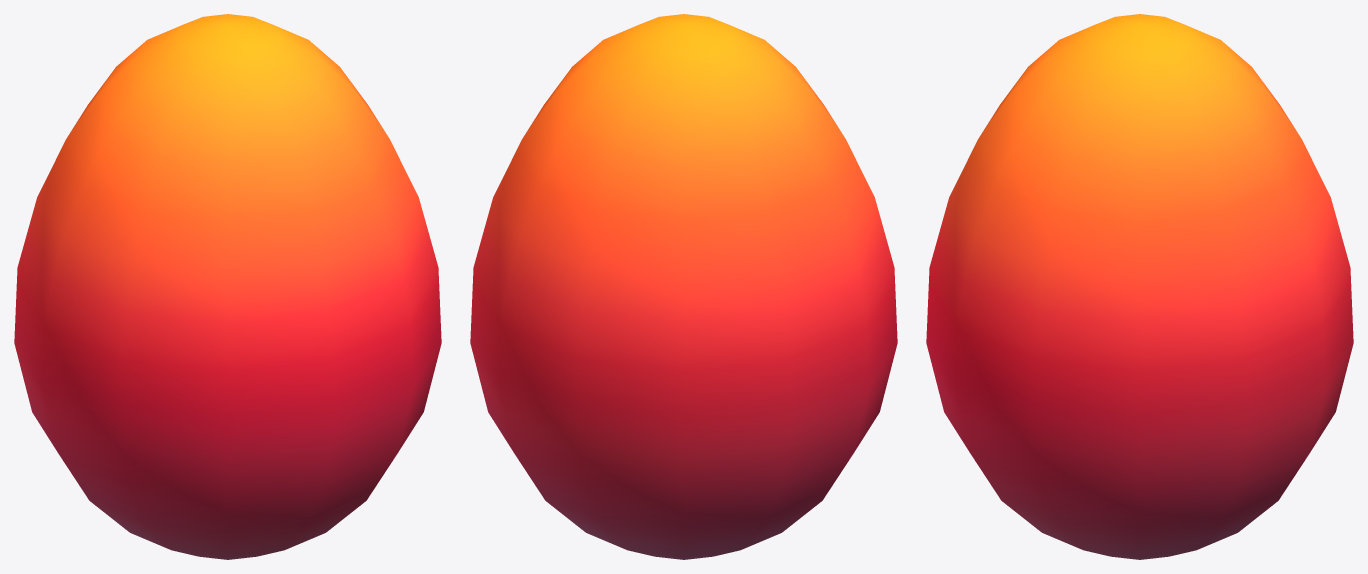
The model's file is EggDragonRed.glb.
The picture shows the model from 3 angles, left to right: view 1: azimuth 30°, elevation 25°; view 2: azimuth 150°, elevation 25°; view 3: azimuth 270°, elevation 25°; orthographic projection.
Visible parts, largest first — view 1: EggDragonRed; view 2: EggDragonRed; view 3: EggDragonRed.
Part boxes in pixels (<box>): EggDragonRed: <box>14,14,441,559</box>; EggDragonRed: <box>470,14,897,559</box>; EggDragonRed: <box>926,14,1353,559</box>.
Size of the model in its own units: 0.9301 by 1.25 by 0.9301.
1 material, 1 textured.
